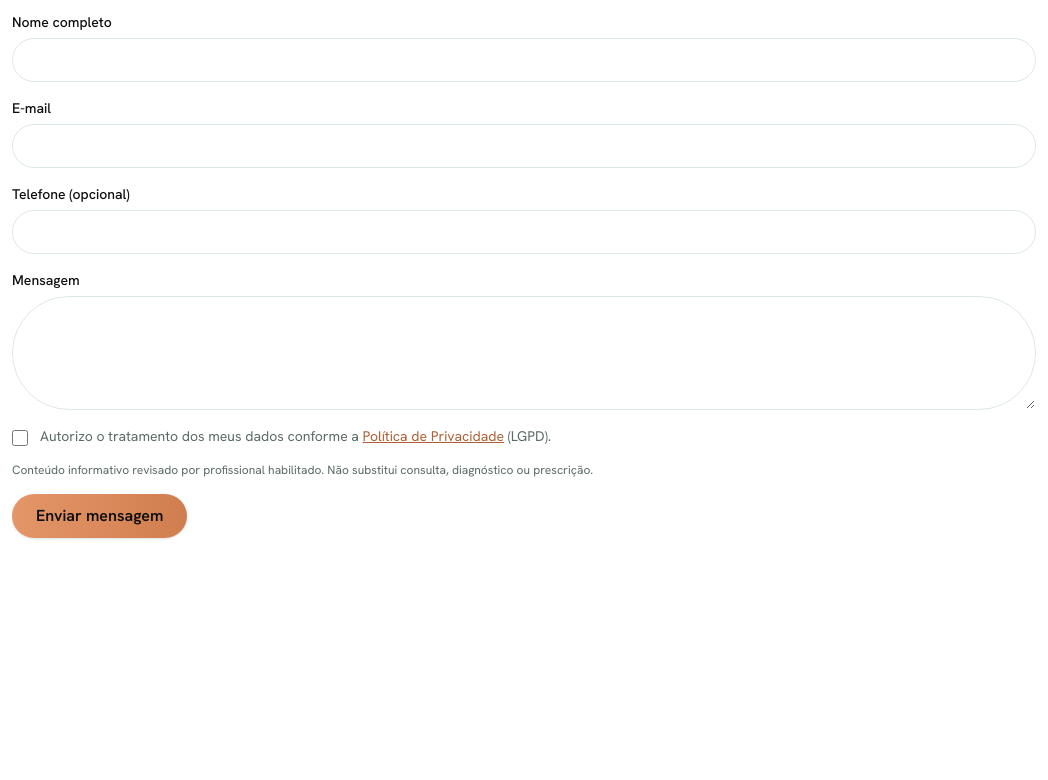
it: ContactForm › envia formulário com consentimento
Type "Dr. Teste" into the field labelled "Nome completo" at (524, 60), box top-left (12, 38), bottom-right (1036, 82)
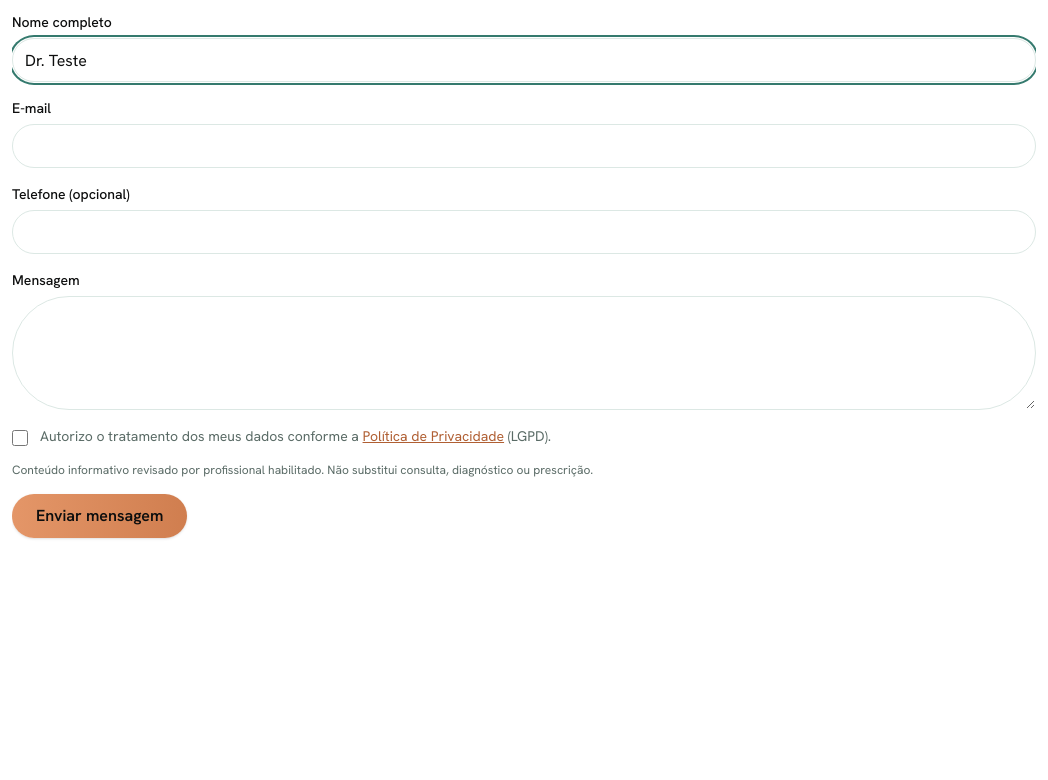
Type "teste@clinica.com.br" into the field labelled "E-mail" at (524, 146), box top-left (12, 124), bottom-right (1036, 168)
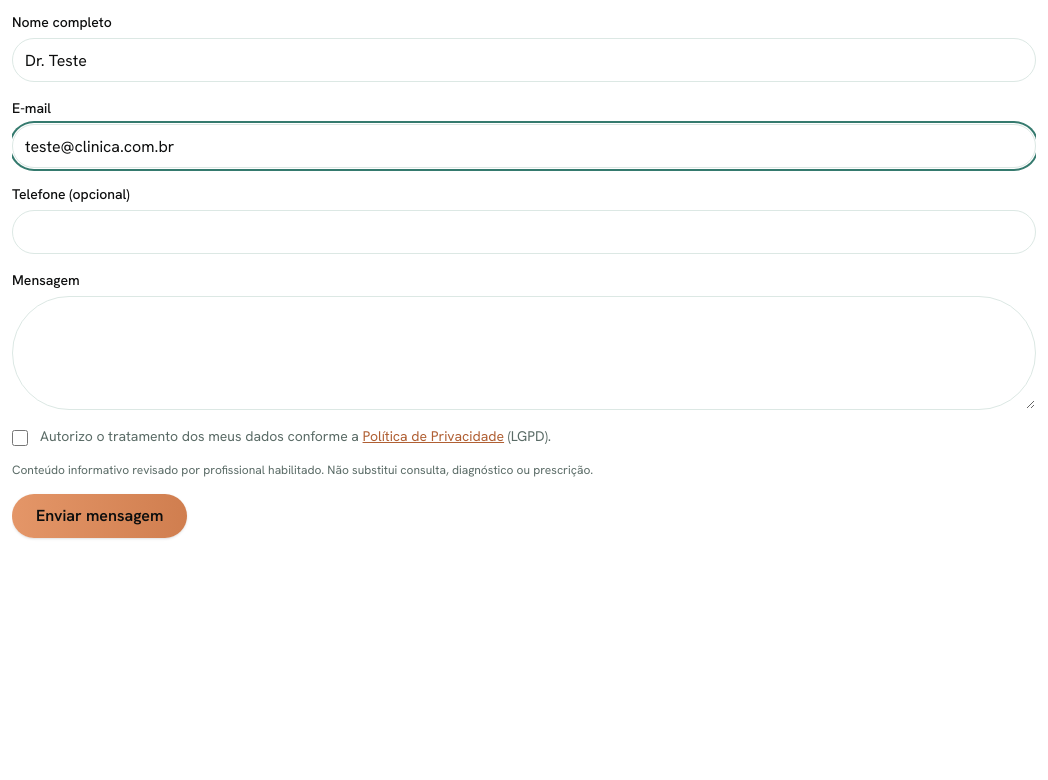
Type "Quero auditoria de IA para minha clínica." into the text box labelled "Mensagem" at (524, 353), box top-left (12, 296), bottom-right (1036, 410)
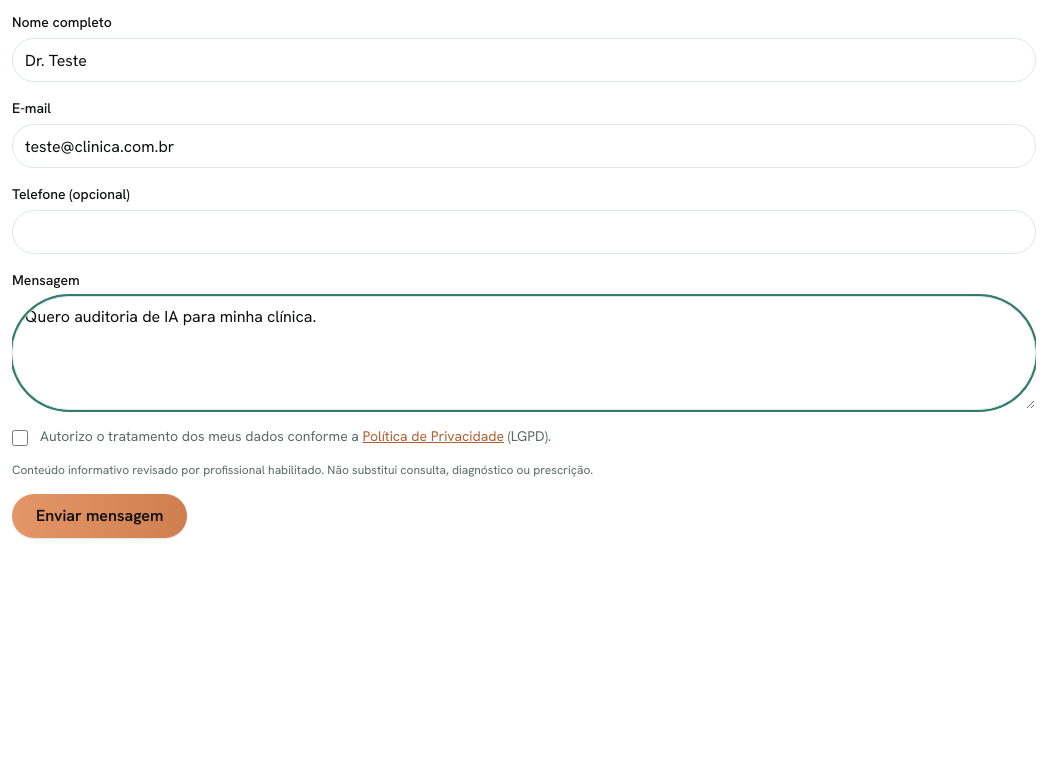
Click the checkbox at (20, 438), box top-left (12, 430), bottom-right (28, 446)
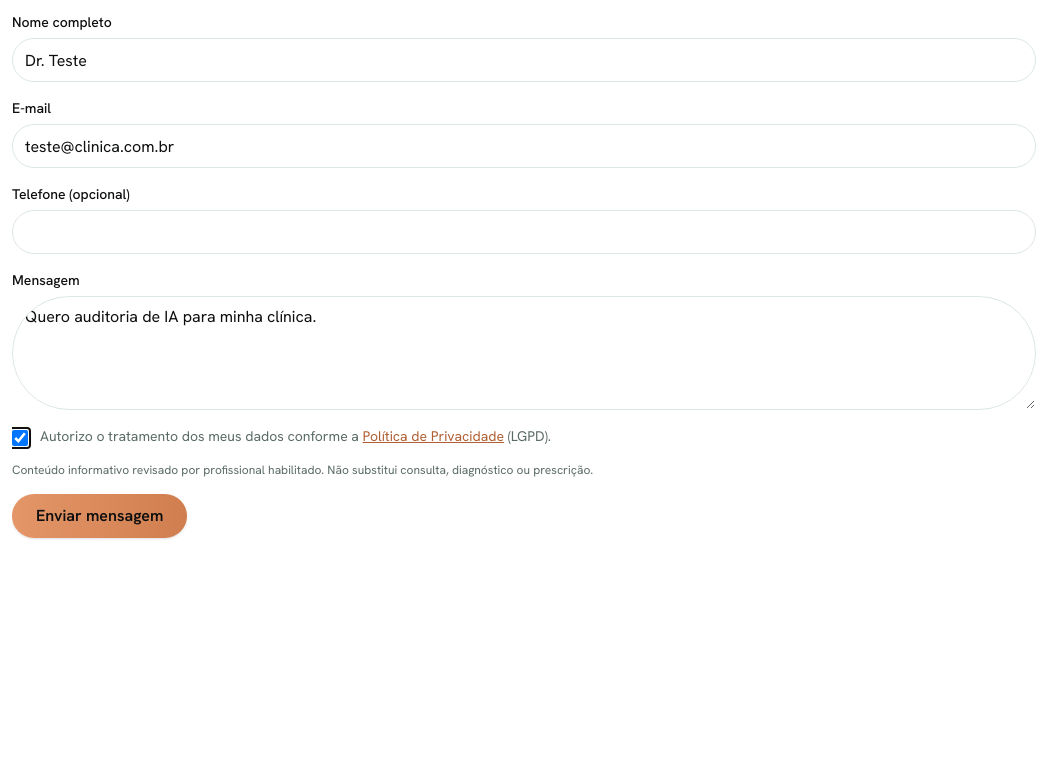
Click the button "Enviar mensagem" at (100, 516), box top-left (12, 494), bottom-right (187, 538)
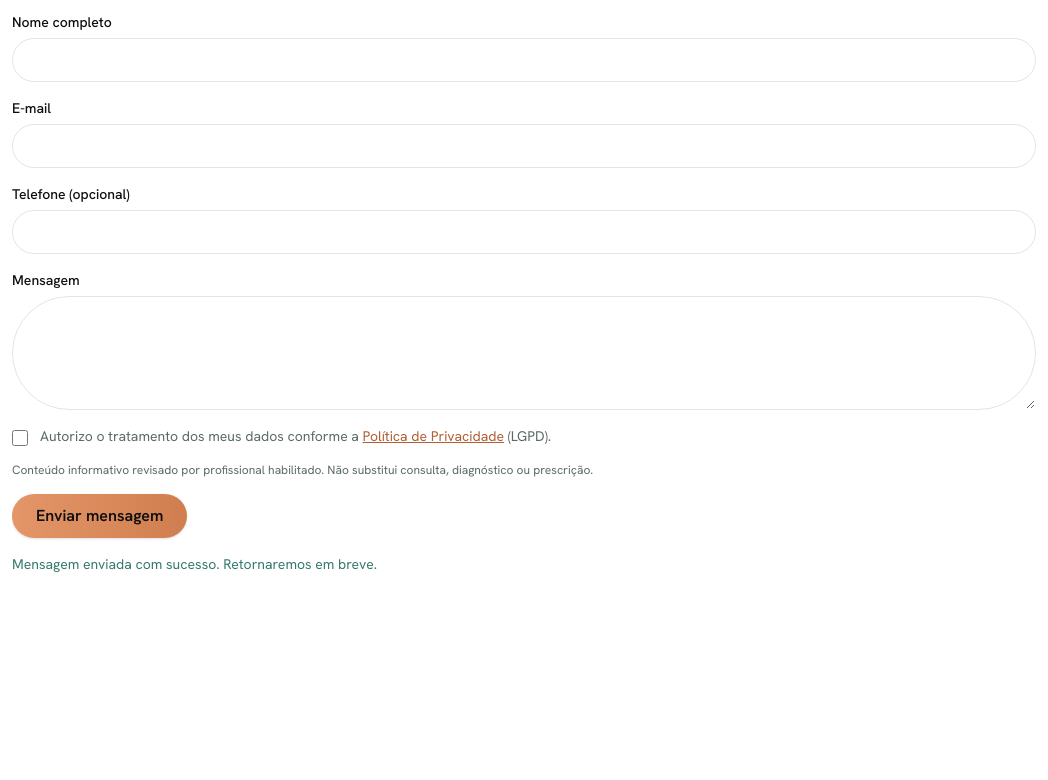
Expected: the message shows "sucesso", top-left (12, 555), bottom-right (377, 573)
